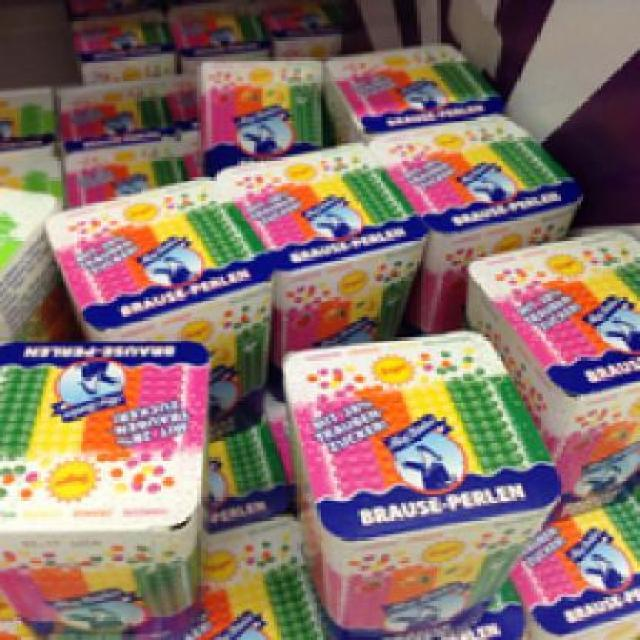Candy: (277, 328, 554, 638), (0, 330, 215, 632), (372, 103, 574, 346), (462, 226, 635, 503), (226, 154, 414, 400)
